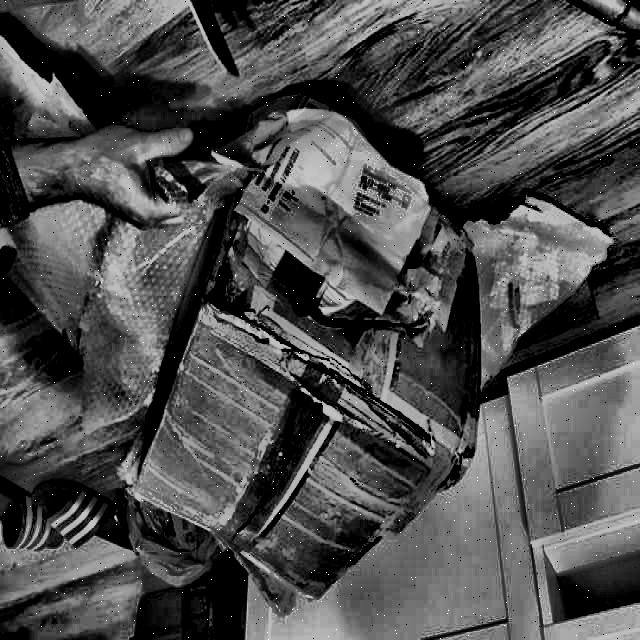box: (104, 110, 536, 615)
hole: (194, 237, 268, 329)
